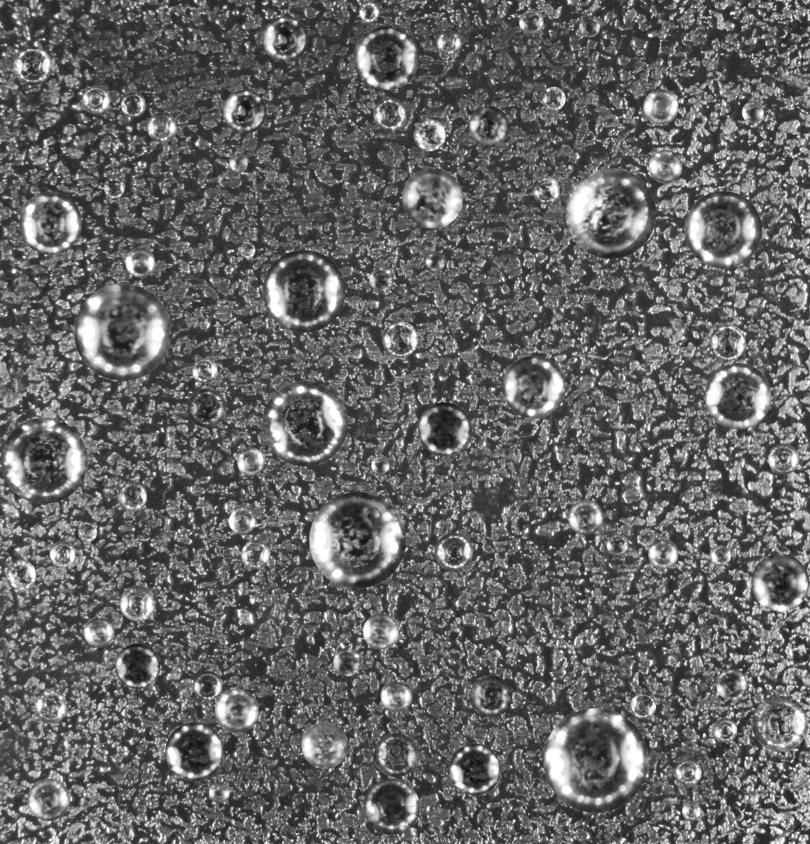Bubble: (543, 708, 648, 812), (74, 283, 171, 380), (309, 492, 405, 588), (565, 168, 656, 258), (1, 417, 87, 503), (262, 381, 347, 466), (262, 250, 345, 332), (684, 191, 762, 268), (705, 363, 771, 429), (355, 26, 418, 89), (502, 355, 565, 418), (19, 191, 81, 254), (402, 167, 463, 228), (165, 722, 224, 781), (751, 553, 809, 611), (363, 779, 419, 835), (752, 696, 808, 751), (418, 402, 471, 455), (449, 743, 501, 795), (301, 722, 348, 768), (262, 16, 308, 62), (115, 643, 160, 688), (214, 688, 258, 733), (222, 89, 266, 133), (374, 733, 417, 777), (27, 778, 69, 821), (470, 675, 512, 717), (468, 106, 509, 147), (13, 46, 52, 85), (187, 388, 226, 427), (434, 533, 472, 571), (382, 321, 418, 357), (119, 585, 155, 621), (709, 324, 745, 360), (363, 613, 399, 649), (643, 89, 678, 124), (568, 500, 603, 535), (648, 149, 682, 183), (34, 690, 67, 723), (373, 97, 406, 130), (413, 119, 445, 151), (380, 680, 412, 712), (83, 616, 114, 647), (716, 669, 747, 700), (768, 444, 799, 474), (648, 538, 678, 568), (125, 247, 155, 277), (147, 112, 177, 142), (6, 560, 36, 589), (117, 482, 147, 511), (192, 671, 222, 700), (81, 85, 110, 114), (241, 540, 270, 569), (333, 648, 361, 676), (236, 447, 264, 475), (532, 176, 559, 203), (228, 508, 255, 534), (675, 759, 701, 786), (49, 541, 75, 567), (191, 357, 217, 383), (630, 692, 656, 718), (120, 92, 145, 117), (437, 30, 461, 55), (519, 9, 543, 34), (712, 718, 737, 742), (541, 86, 565, 110), (369, 267, 393, 291), (606, 534, 628, 556), (742, 101, 763, 123), (103, 176, 124, 198), (710, 545, 731, 566), (579, 16, 600, 37), (209, 782, 229, 803), (359, 1, 379, 22), (77, 522, 97, 542), (425, 252, 445, 271), (682, 801, 701, 821), (229, 153, 247, 172), (371, 456, 389, 474), (239, 242, 255, 258)
